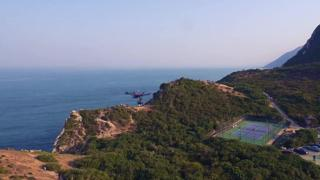UAV: (125, 90, 152, 106)
